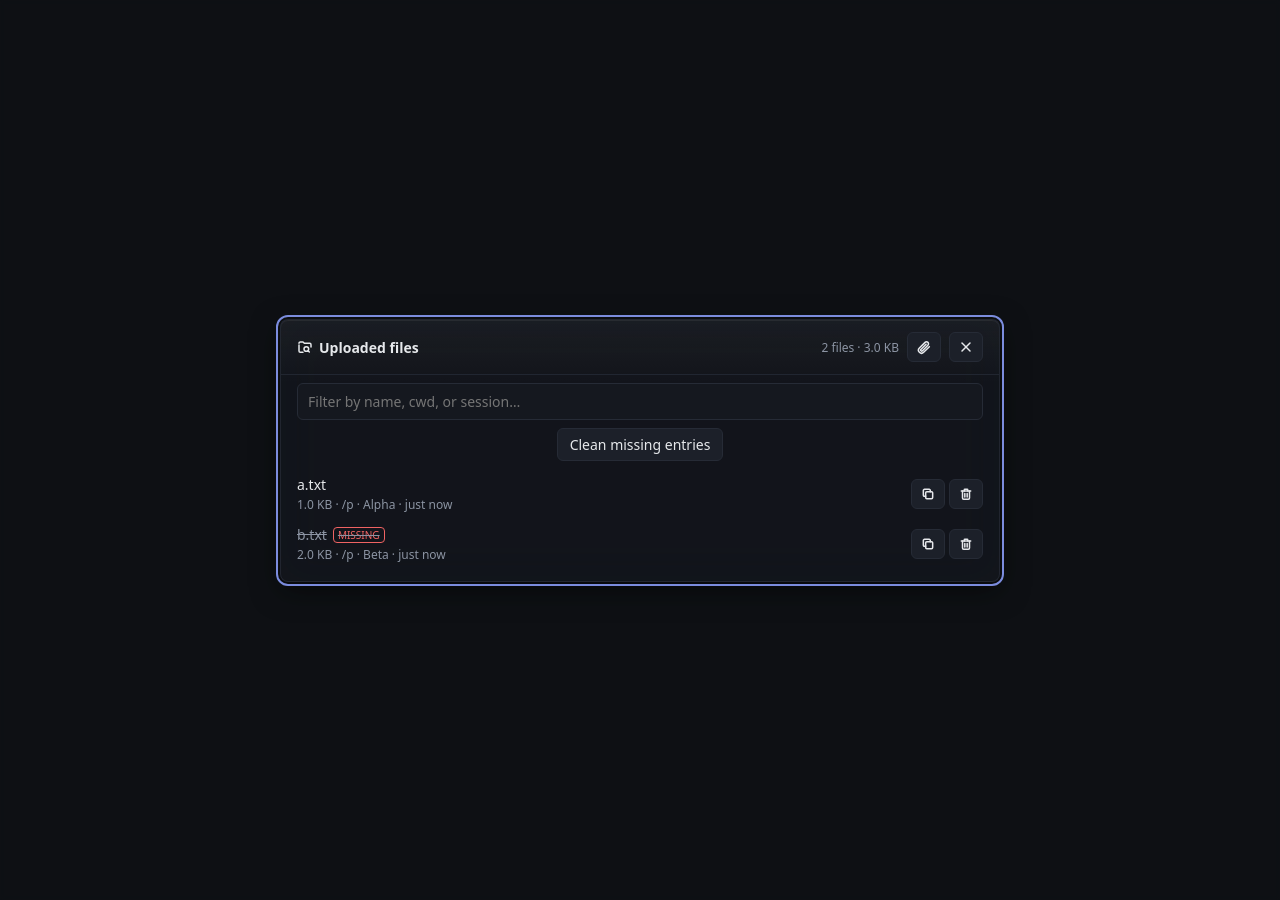
Test: UploadsManagerDialog › filter narrows rows by name / cwd / session title
The image size is (1280, 900).
Expected: the text "a.txt" is shown, [297, 474, 326, 494]
Step 1. Type "Beta" into the field with placeholder "Filter by name, cwd, or session…" → [640, 401], box [297, 382, 983, 420]
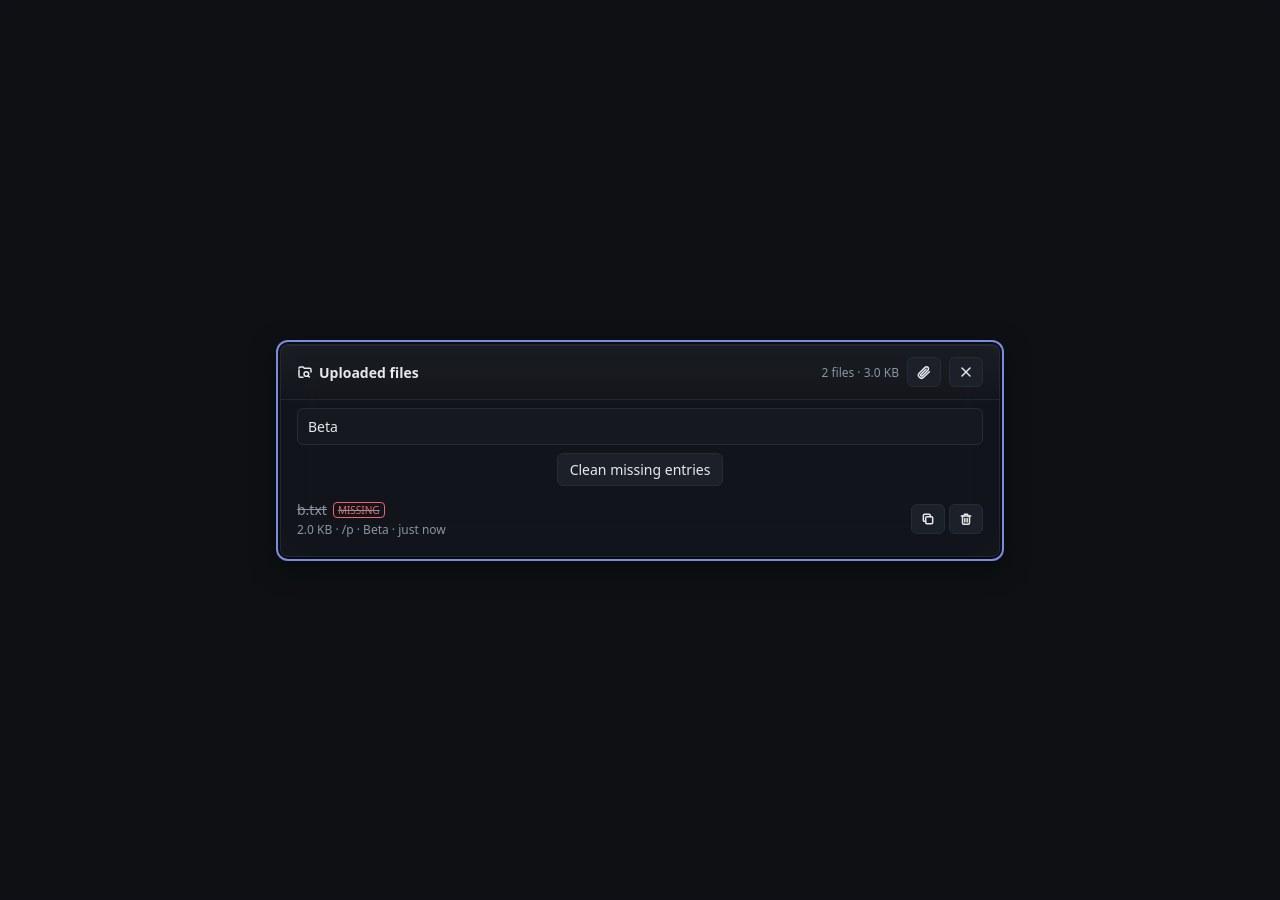
Expected: the text "b.txt" is shown, [297, 500, 327, 518]
Expected: the text "a.txt" is gone
